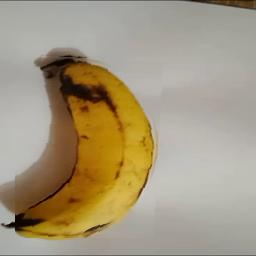Banana Semifresh: (15, 54, 163, 238)
